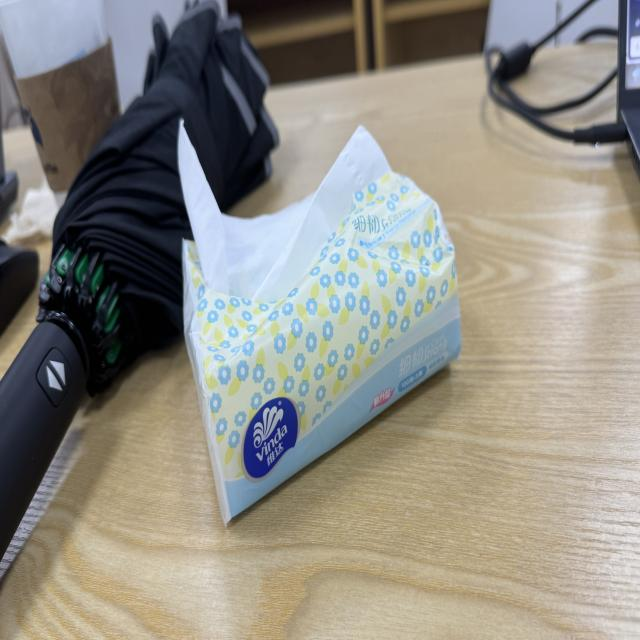tissue: (179, 129, 460, 522)
